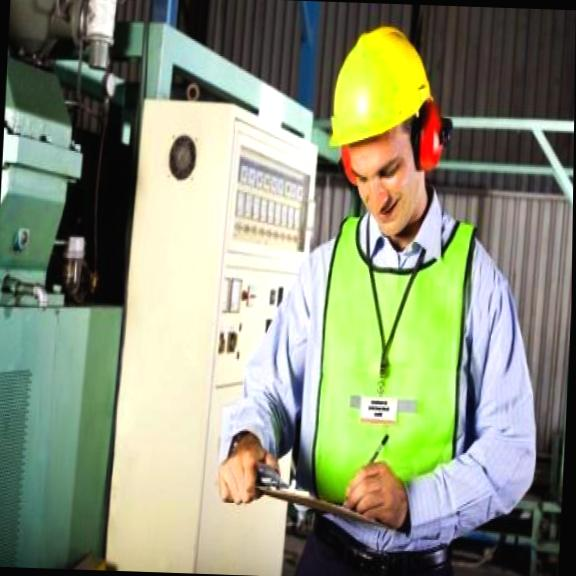safety_vest: (306, 202, 473, 550)
